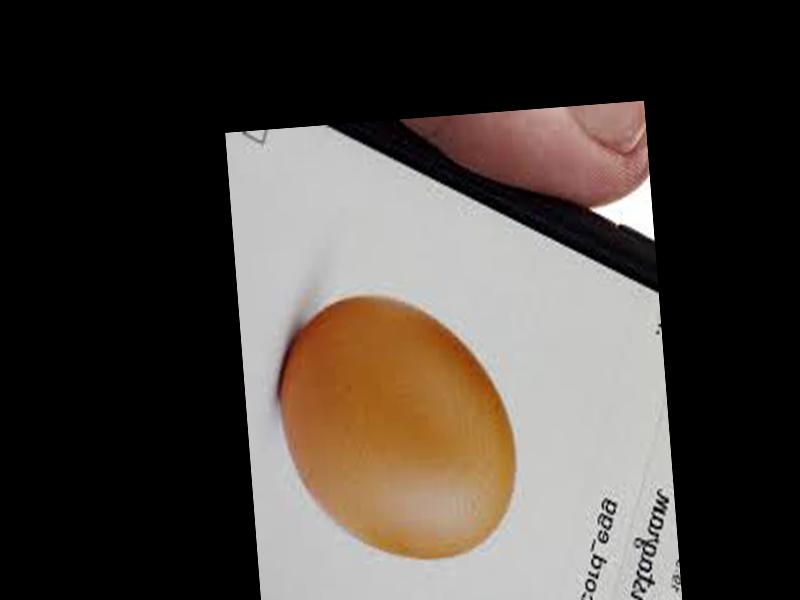Eggs: (273, 285, 522, 569)
